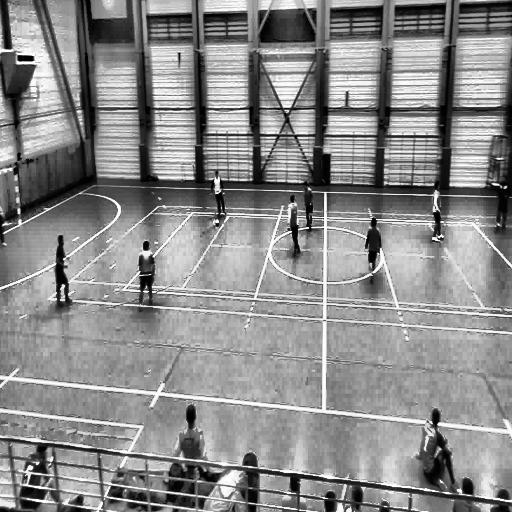ball: (214, 217, 220, 228)
player: (53, 234, 73, 308), (136, 239, 156, 311), (365, 215, 382, 283), (493, 172, 510, 232), (430, 178, 445, 242), (210, 170, 227, 219), (288, 194, 300, 256), (303, 178, 314, 232)
